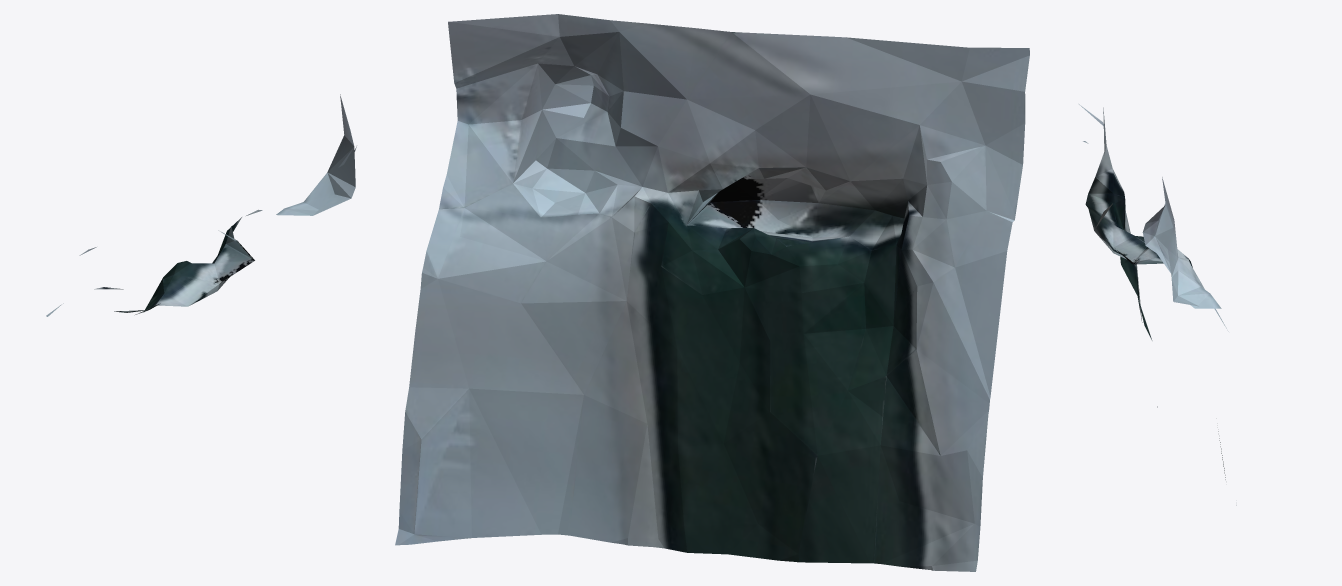
3 views of the same model, side by side, from view 1: azimuth 30°, elevation 25°; view 2: azimuth 150°, elevation 25°; view 3: azimuth 270°, elevation 25° (orthographic). The views are drawn at different scales.
Size of the model in its own units: 1.67 by 1.67 by 1.08.
Materials: 3 (3 with a texture image).
